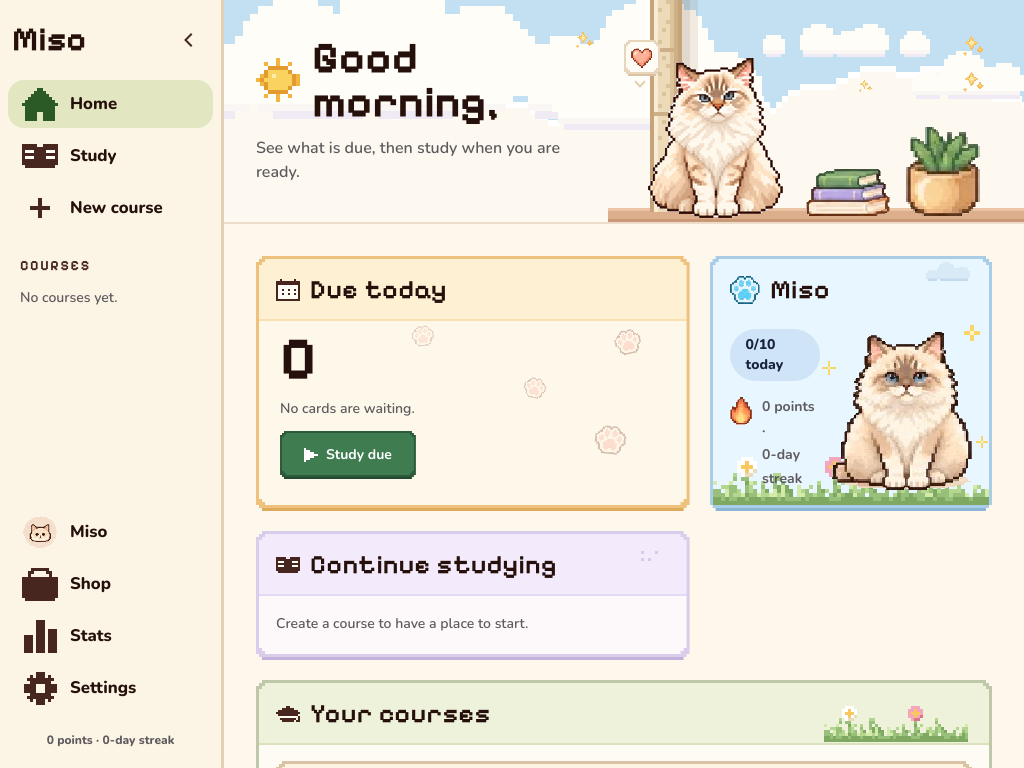
Miso shell › collapses the desktop sidebar
Expected: the heading "Good morning," is shown, [312,32,499,128]
Expected: the navigation bar named "Primary" shows "Courses", [20,257,91,274]
Click the button named "Collapse sidebar" at (189, 40), box [169,20,209,60]
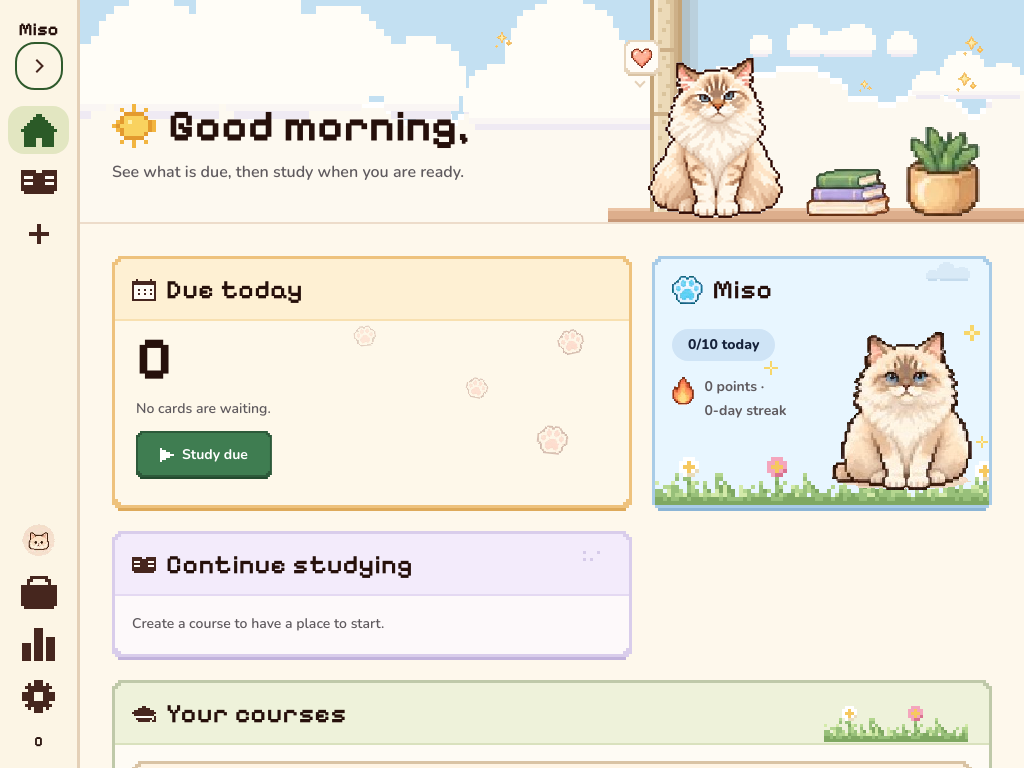
Expected: the navigation bar named "Primary" does not show "Courses", [0,106,77,767]
Result: the button named "Expand sidebar" is shown at [18,46,58,86]
